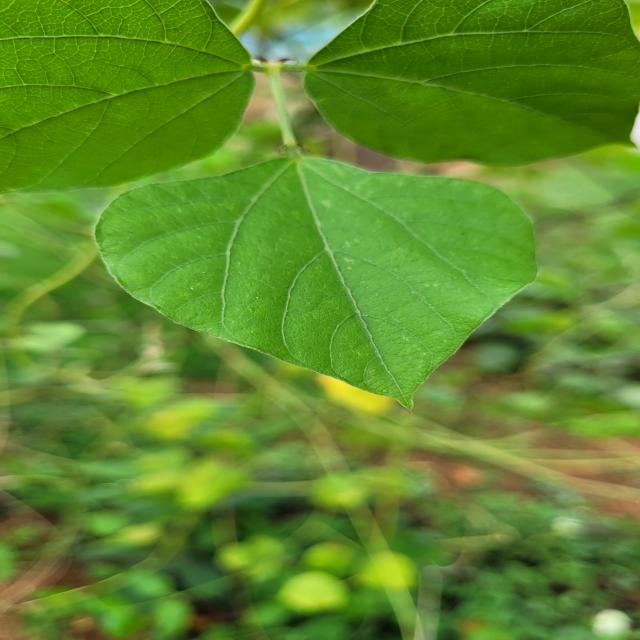Dolicos bean_healthy: (110, 154, 540, 401)
